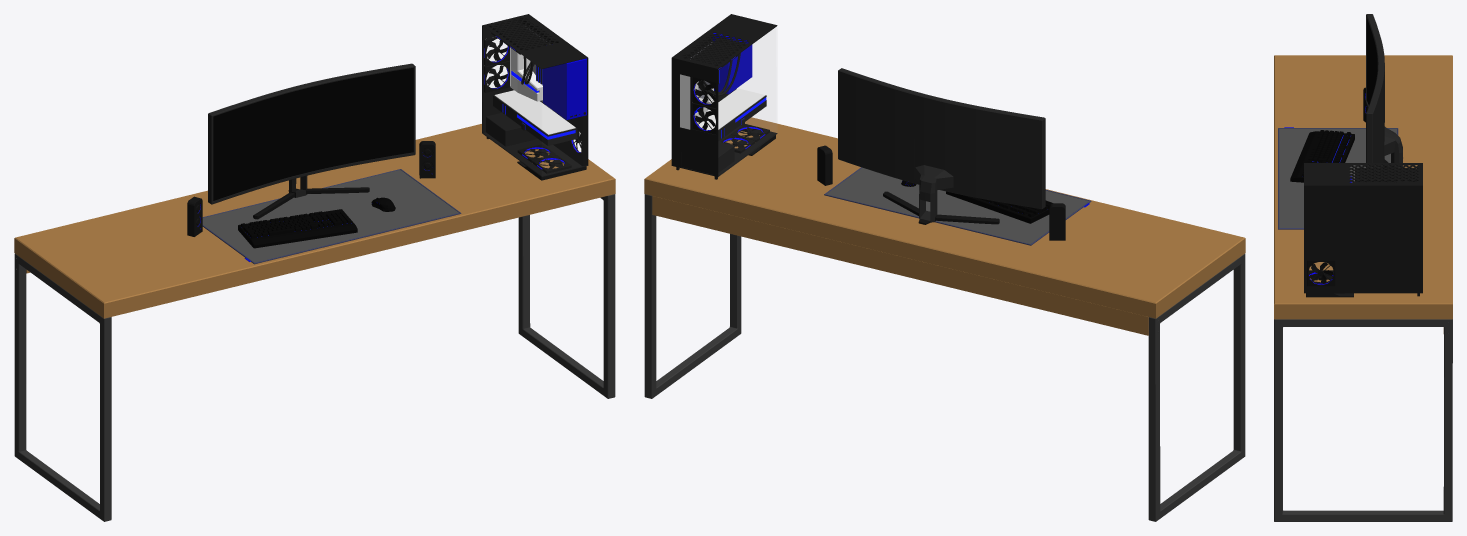
3 views of the same model, side by side, from view 1: azimuth 30°, elevation 25°; view 2: azimuth 150°, elevation 25°; view 3: azimuth 270°, elevation 25° (orthographic).
Visible parts, largest first — view 1: sm_table_2m, sm_monitor, sm_pc, sm_mousepad, sm_keyboard; view 2: sm_table_2m, sm_monitor, sm_pc, sm_mousepad, sm_keyboard; view 3: sm_table_2m, sm_pc, sm_mousepad, sm_monitor, sm_keyboard, fan.009, fan.010.
Part boxes in pixels (x1,y1,x2,y2): sm_table_2m: (14,124,615,521); sm_monitor: (208,63,415,219); sm_pc: (482,14,588,180); sm_mousepad: (202,169,461,264); sm_keyboard: (238,209,357,248); sm_table_2m: (644,117,1245,521); sm_monitor: (838,68,1045,224); sm_pc: (671,14,777,179); sm_mousepad: (824,167,1091,245); sm_keyboard: (946,191,1052,223); sm_table_2m: (1274,55,1452,521); sm_pc: (1304,163,1422,297); sm_mousepad: (1278,127,1398,229); sm_monitor: (1366,14,1402,168); sm_keyboard: (1290,130,1354,182); fan.009: (1307,260,1335,286); fan.010: (1310,262,1333,283).
Size of the model in its own units: 2 by 1.25 by 0.6075.
